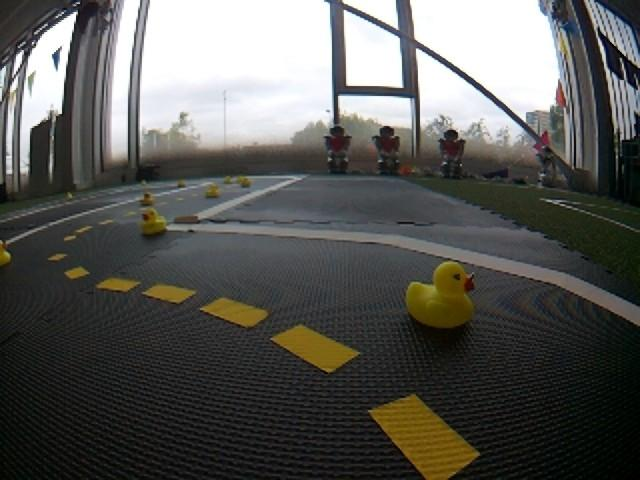Duckies: (407, 262, 474, 328), (137, 209, 166, 233), (0, 238, 10, 268), (205, 184, 222, 197), (140, 192, 155, 204), (241, 178, 250, 187), (236, 175, 245, 183), (177, 180, 185, 187), (224, 176, 232, 183), (67, 192, 72, 199), (141, 180, 146, 185)
